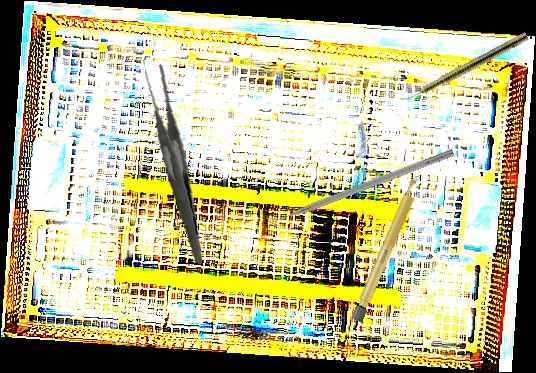Chopper: (262, 138, 455, 228)
Dressing Forceps: (128, 63, 219, 264)
Handpiece: (398, 30, 530, 107)
Scalpel Handle: (350, 173, 425, 324)
